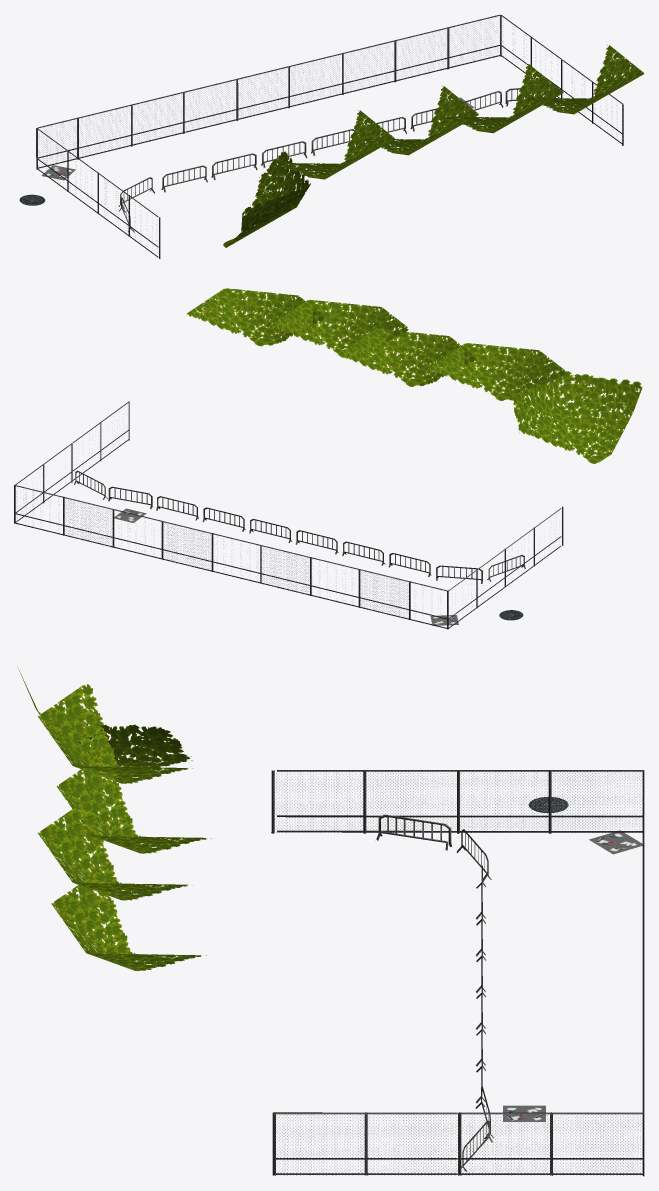
File: court_rucker_trees_mesh.fbx
3 views of the same model, one above another, from view 1: azimuth 30°, elevation 25°; view 2: azimuth 150°, elevation 25°; view 3: azimuth 270°, elevation 25° (orthographic). The views are drawn at different scales.
Parts seen in each view (by area): view 1: court_rucker_trees_mesh; view 2: court_rucker_trees_mesh; view 3: court_rucker_trees_mesh.
Boxes of the visible parts, x1,y1,x2,y2 form: court_rucker_trees_mesh: (19, 14, 643, 258); court_rucker_trees_mesh: (14, 288, 642, 629); court_rucker_trees_mesh: (18, 668, 644, 1176).
Size of the model in its own units: 132 by 32.8 by 92.95.
